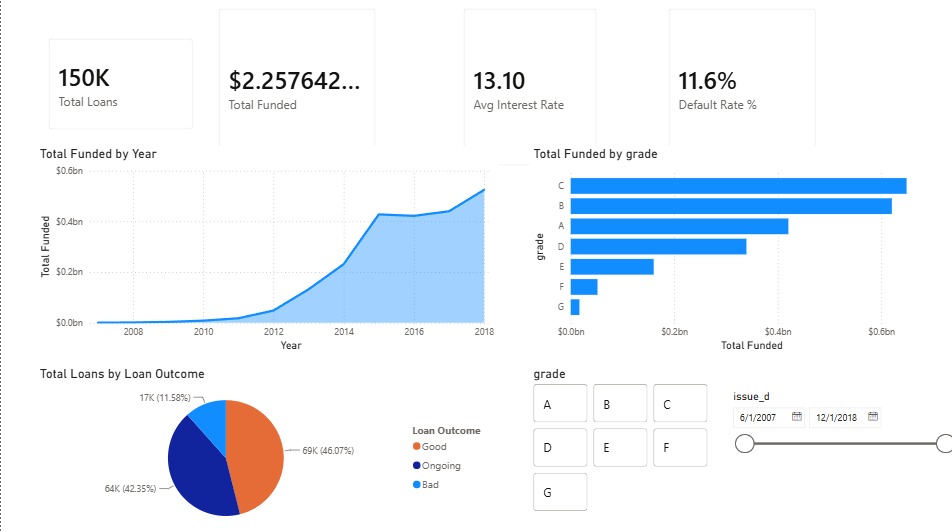

Layout of this report page (visuals, bound fields, positions):
{"tool":"powerbi","page":{"name":"Overview","canvas":[1280,720],"ordinal":0},"visuals":[{"type":"cardVisual","fields":{"Data":["loans_clean.Total Loans"]},"box":[46.7,40,226.7,155.6],"z":0},{"type":"cardVisual","fields":{"Data":["loans_clean.Total Funded"]},"box":[273.3,0,243.3,243.3],"z":1000},{"type":"cardVisual","fields":{"Data":["loans_clean.Avg Interest Rate"]},"box":[600,0,211.9,243.3],"z":2000},{"type":"cardVisual","fields":{"Data":["loans_clean.Default Rate %"]},"box":[873.3,0,230.1,243.3],"z":3000},{"type":"areaChart","fields":{"Category":["loans_clean.issue_d.Variation.Date Hierarchy.Year","loans_clean.issue_d.Variation.Date Hierarchy.Quarter","loans_clean.issue_d.Variation.Date Hierarchy.Month","loans_clean.issue_d.Variation.Date Hierarchy.Day"],"Y":["loans_clean.Total Funded"]},"box":[46.3,200.3,615.7,279.7],"z":4000},{"type":"clusteredBarChart","fields":{"Category":["loans_clean.grade"],"Y":["loans_clean.Total Funded"]},"box":[705.1,200.3,561.1,279.7],"z":5000},{"type":"pieChart","fields":{"Category":["loans_clean.Loan Outcome"],"Y":["loans_clean.Total Loans"]},"box":[46.3,493.2,615.7,226.7],"z":6000},{"type":"advancedSlicerVisual","fields":{"Values":["loans_clean.grade"]},"box":[705.1,493.2,245,200.3],"z":7000},{"type":"slicer","fields":{"Values":["loans_clean.issue_d"]},"box":[962.5,520,317.5,200],"z":8000}]}

Visuals, with their boxes in screenshot pixels (x1, y1, x2, y2), scaled from the page's 1280x720 canvas onto the 952x532 screenshot:
cardVisual - loans_clean.Total Loans: [left=35, top=30, right=203, bottom=145]
cardVisual - loans_clean.Total Funded: [left=203, top=0, right=384, bottom=180]
cardVisual - loans_clean.Avg Interest Rate: [left=446, top=0, right=604, bottom=180]
cardVisual - loans_clean.Default Rate %: [left=650, top=0, right=821, bottom=180]
areaChart - loans_clean.issue_d.Variation.Date Hierarchy.Year x loans_clean.issue_d.Variation.Date Hierarchy.Quarter: [left=34, top=148, right=492, bottom=355]
clusteredBarChart - loans_clean.grade x loans_clean.Total Funded: [left=524, top=148, right=942, bottom=355]
pieChart - loans_clean.Loan Outcome x loans_clean.Total Loans: [left=34, top=364, right=492, bottom=531]
advancedSlicerVisual - loans_clean.grade: [left=524, top=364, right=707, bottom=512]
slicer - loans_clean.issue_d: [left=716, top=384, right=951, bottom=531]
